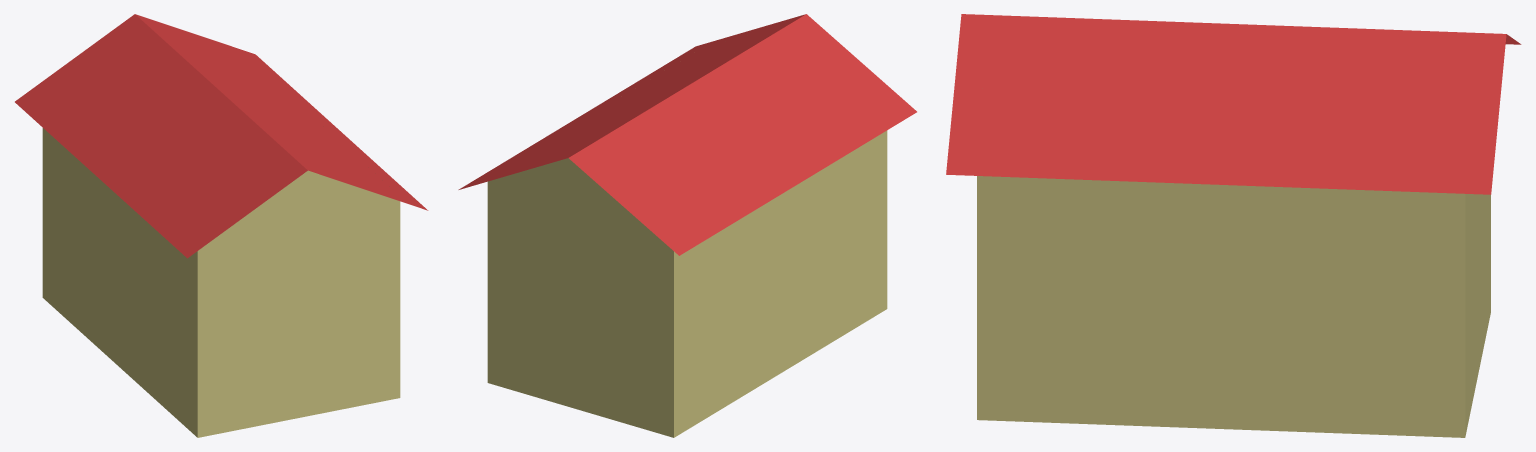
The picture shows the model from 3 angles, left to right: view 1: azimuth 30°, elevation 25°; view 2: azimuth 150°, elevation 25°; view 3: azimuth 270°, elevation 25°; orthographic projection. The views are drawn at different scales.
Size of the model in its own units: 10.58 by 15.14 by 9.93.
